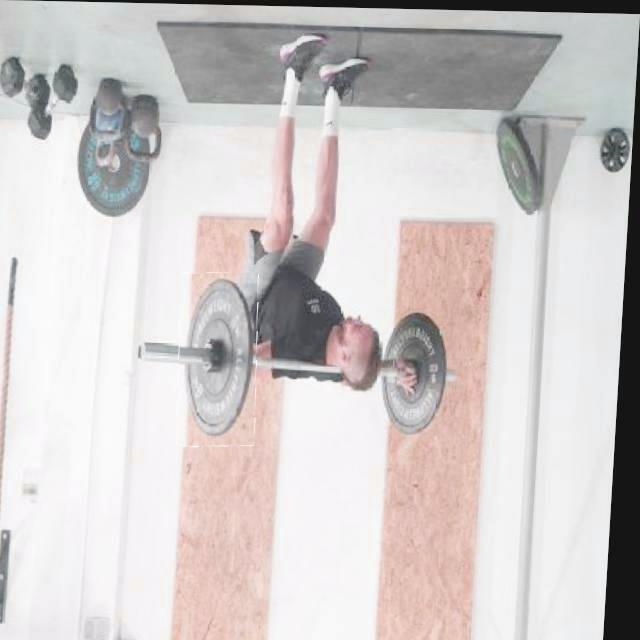barbell: (178, 272, 267, 447)
